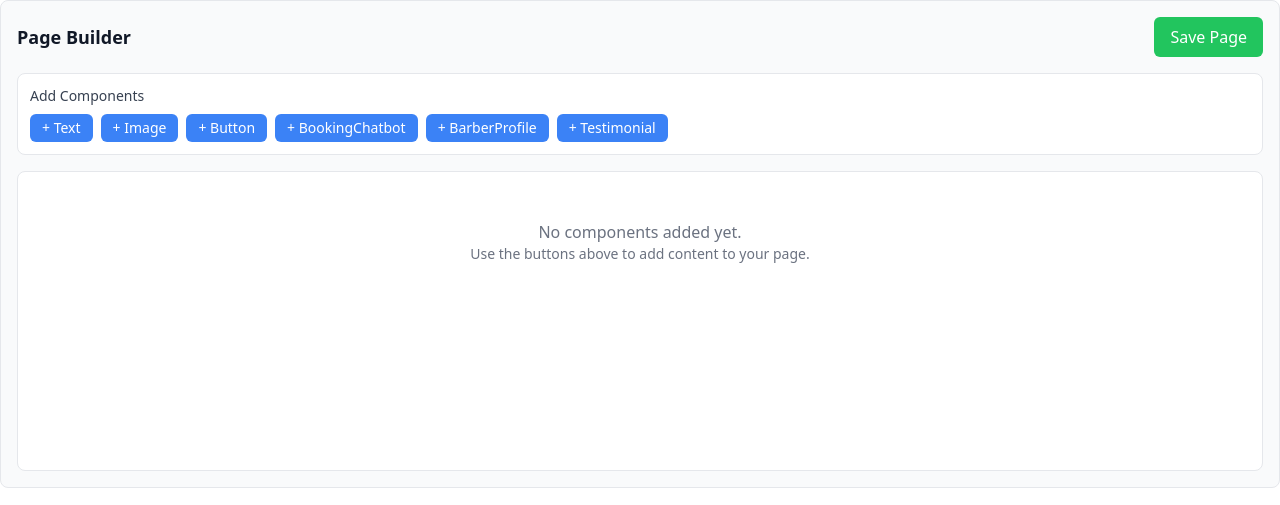
Test case: PageBuilder Component › adds text component when text button is clicked
Step 1. Click the button "+ Text" → [61, 128], box [30,114,92,142]
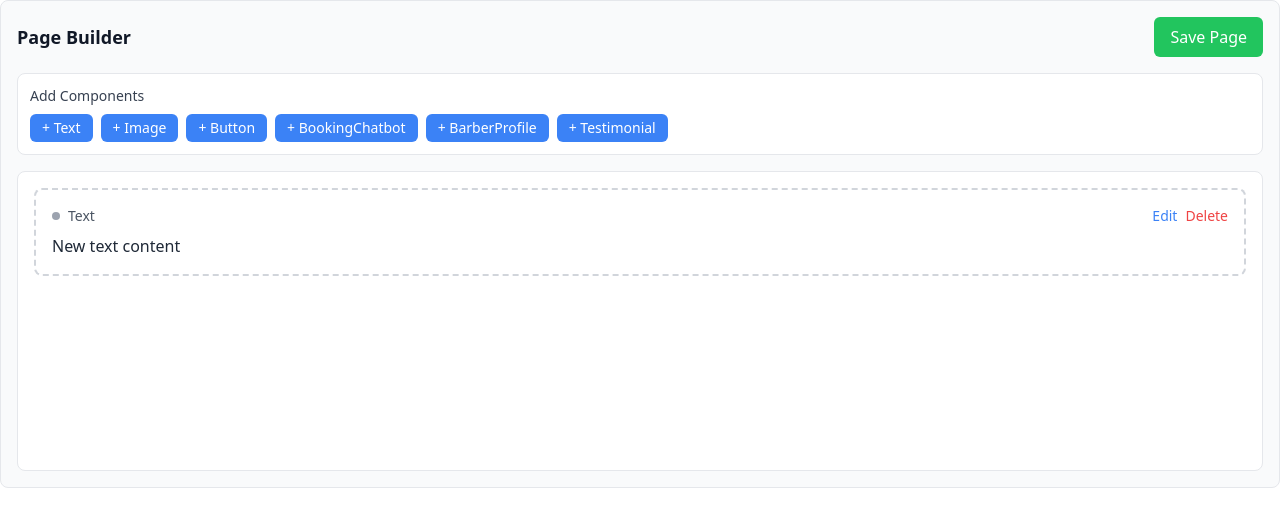
Expected: the text "New text content" is shown, [52,235,180,257]
